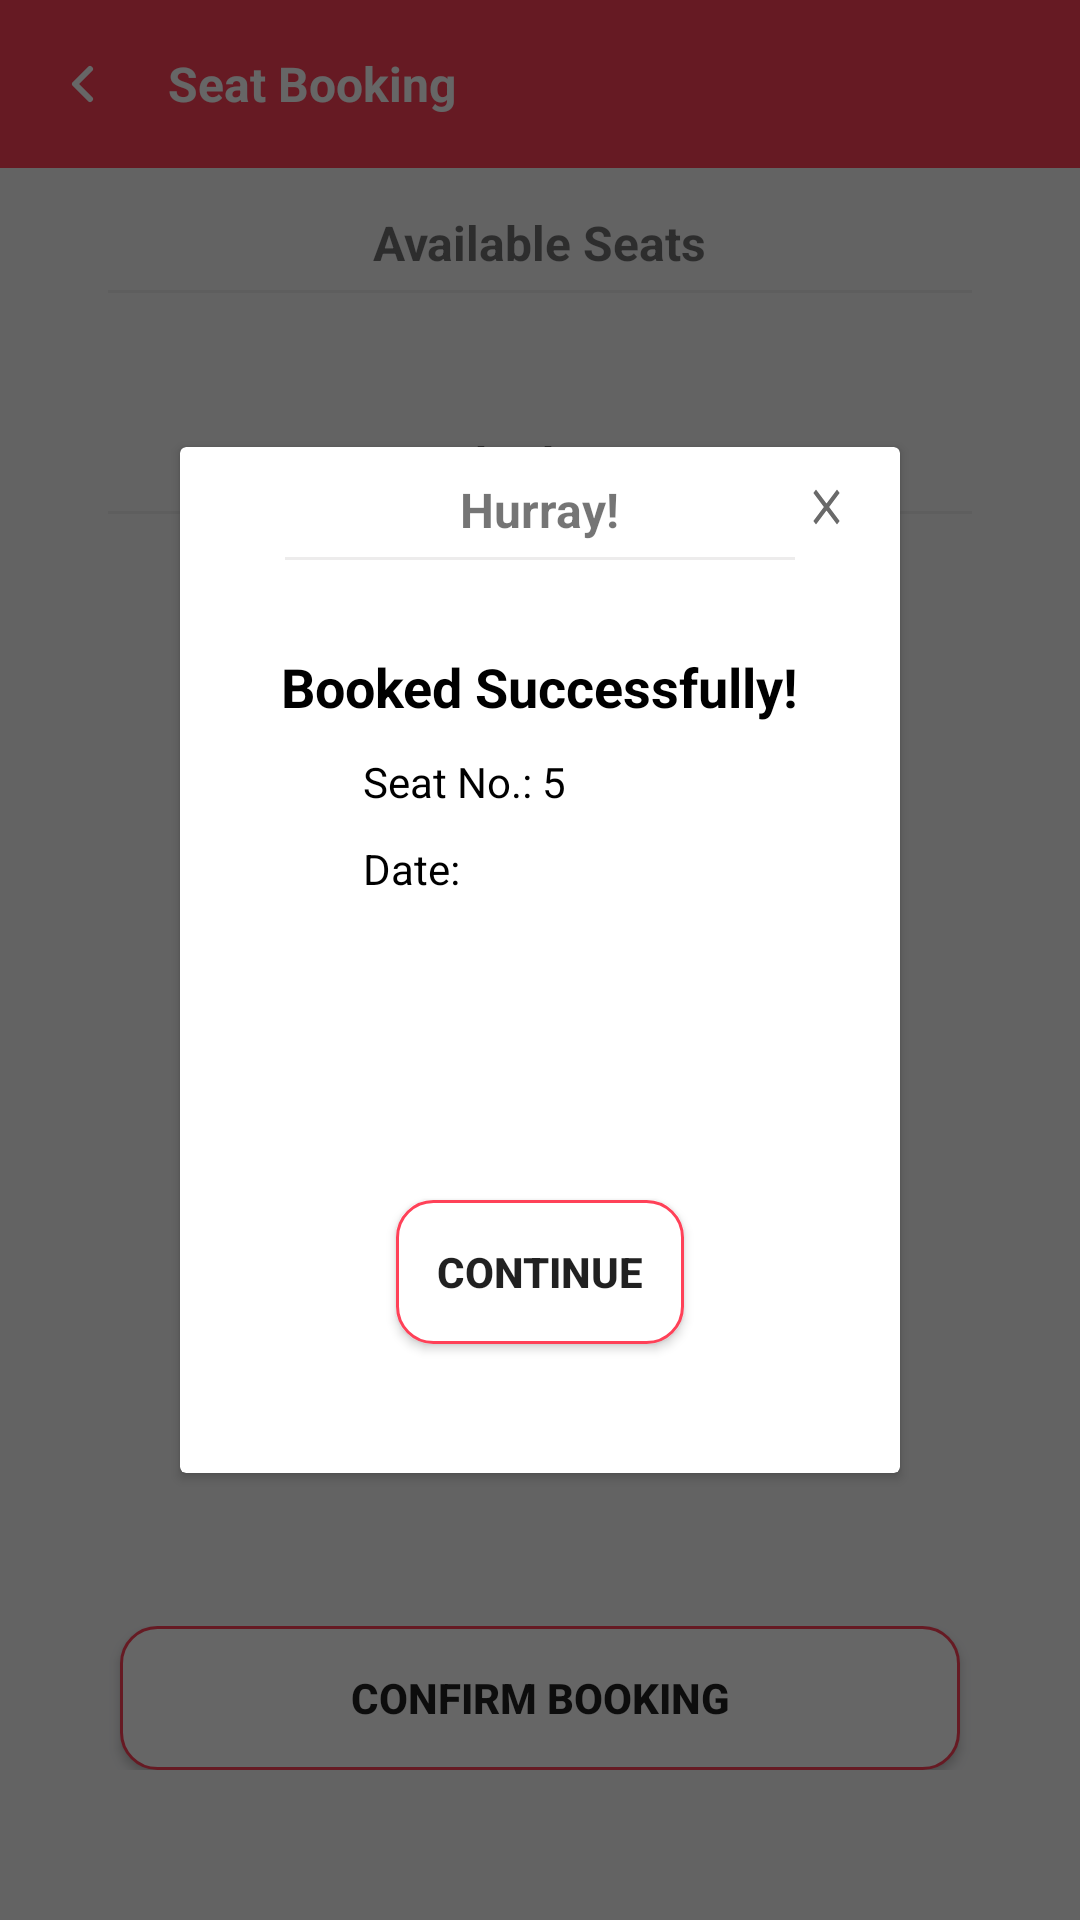

Icons on this 1080px×1920px Android screen, each with its box as rect(x1, y1, x2, y2):
back arrow: rect(72, 66, 93, 102)
close: rect(813, 490, 840, 524)
